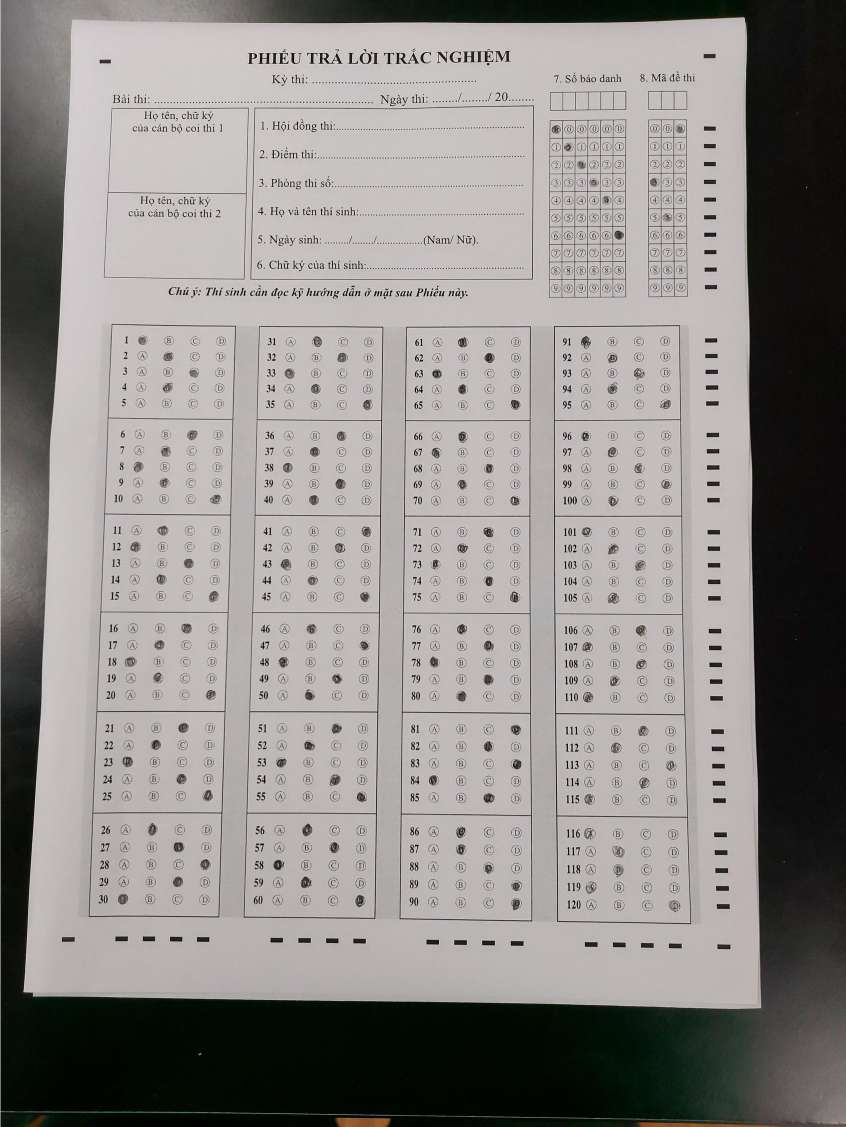bot_left: (9, 972, 52, 1012)
bot_right: (736, 981, 780, 1027)
top_left: (59, 1, 96, 42)
top_right: (721, 1, 761, 44)
